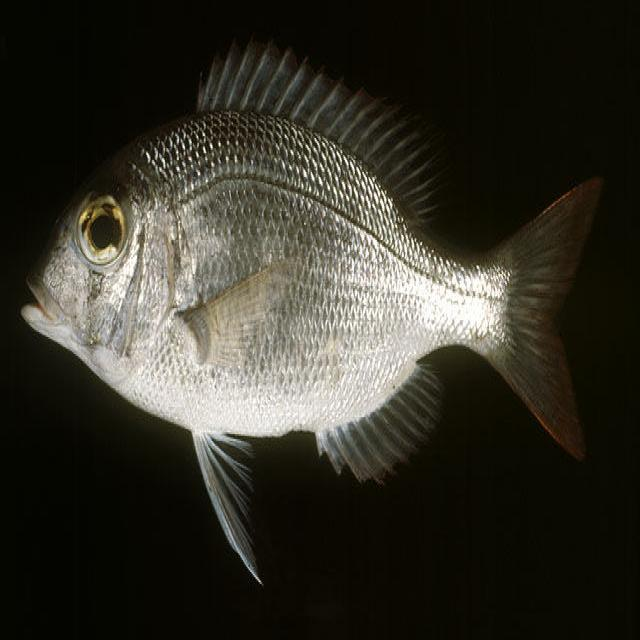ikan: (19, 34, 605, 587)
